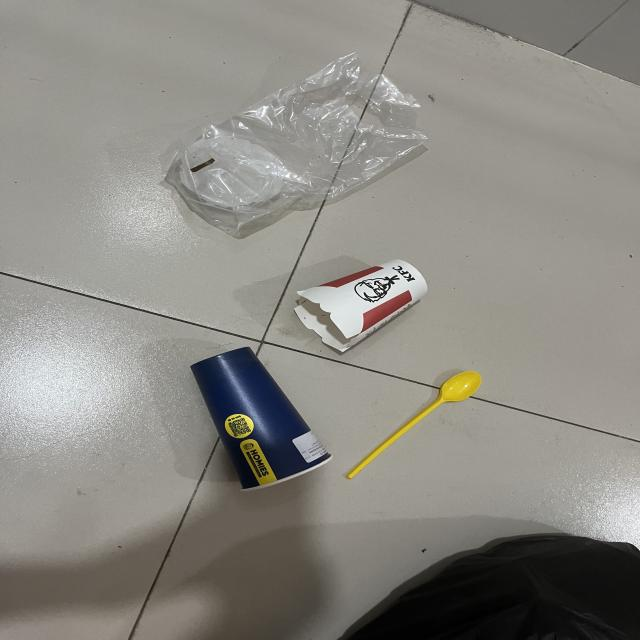bag: (164, 52, 430, 230)
cardboard box: (294, 258, 428, 354)
plastic glass: (190, 346, 334, 492)
plastic utensil: (347, 370, 482, 480)
